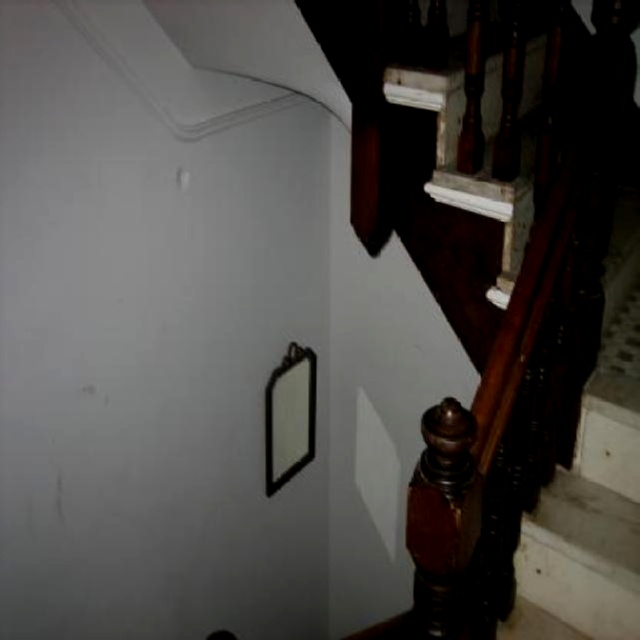stair: (383, 0, 640, 640)
